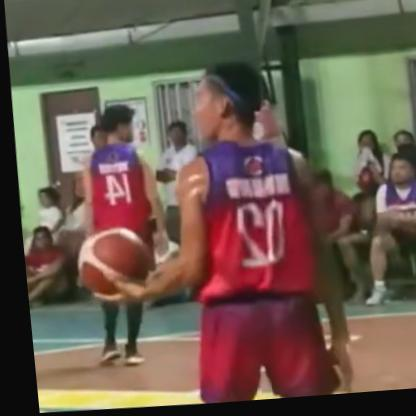basketball: (67, 225, 157, 309)
